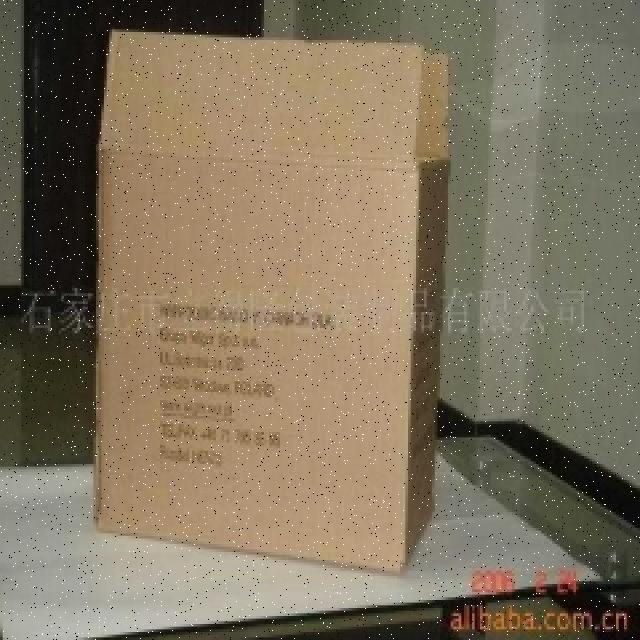box: (77, 14, 448, 573)
